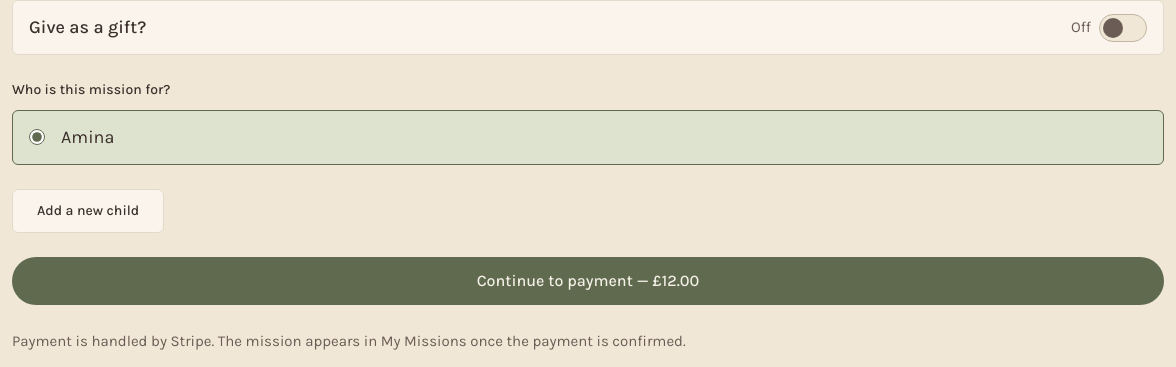
the gift toggle (D-140) › says on and off in words, not by colour alone
Expected: the text "Off" is shown, [1071, 15, 1091, 40]
Click the switch labelled "Give as a gift? Off" at point(1123, 28), box [1099, 14, 1147, 42]
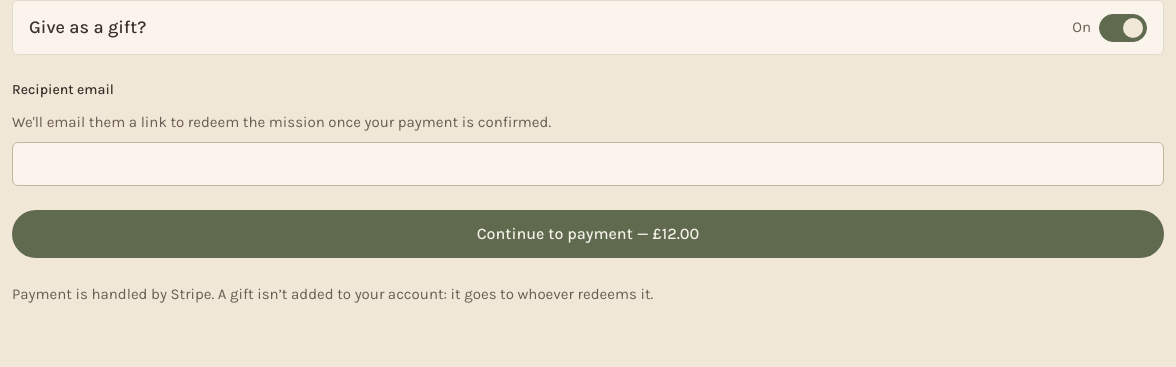
Expected: the text "On" is shown, [1072, 15, 1091, 40]
